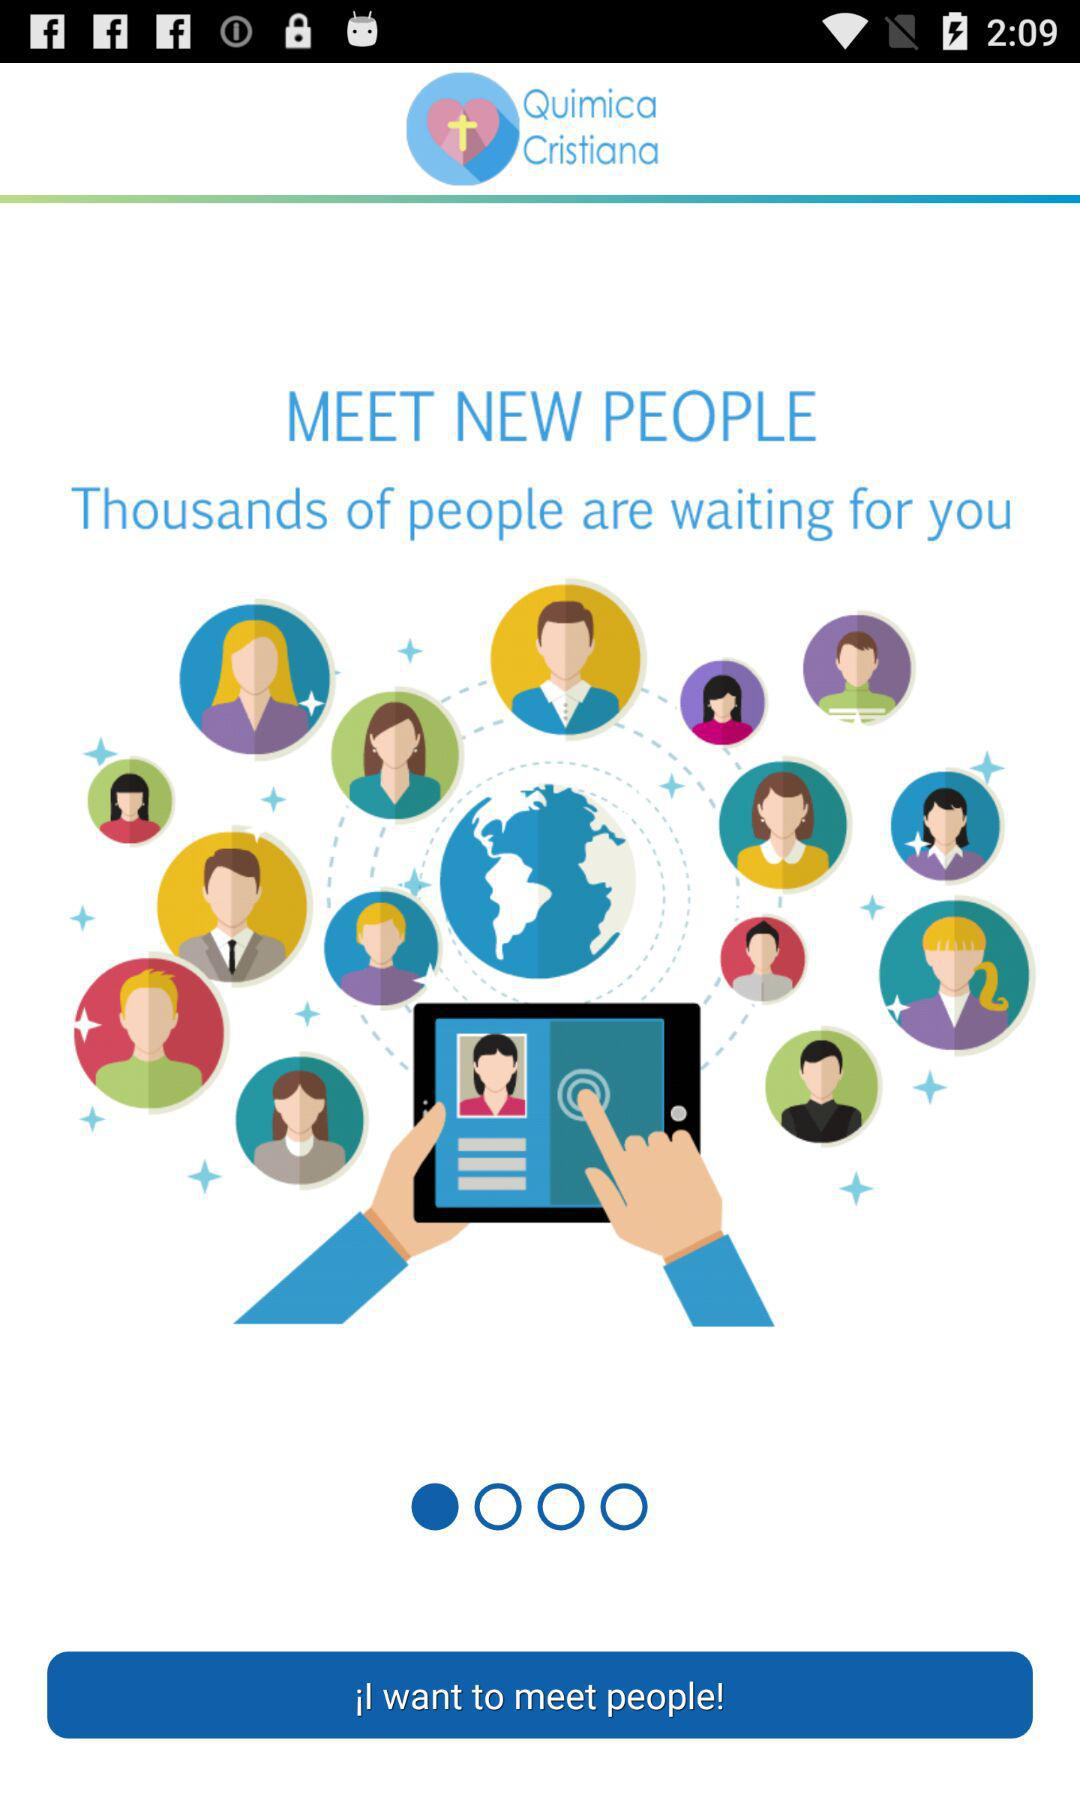Image: (56, 575, 1027, 1326), (404, 70, 659, 186)
PageIndicator: (410, 1480, 651, 1534)
Text: (70, 486, 1012, 545), (287, 390, 821, 443)
TextButton: (46, 1650, 1035, 1740)
UpperTaskBar: (1, 1, 1080, 64)
